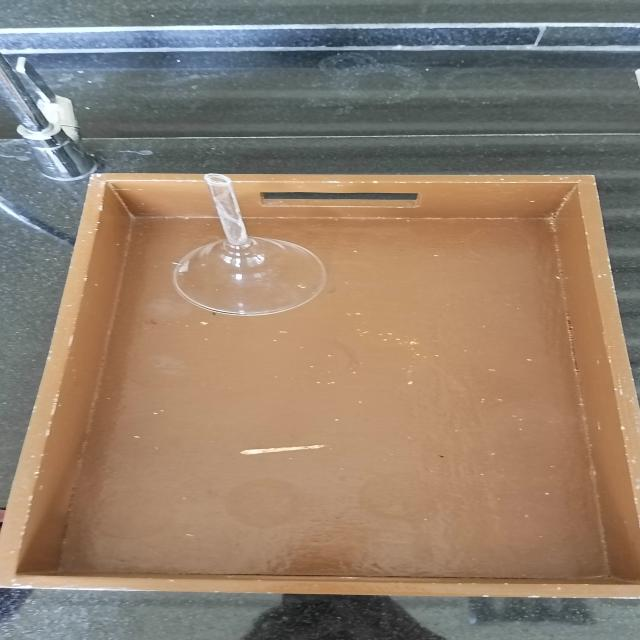funnel: (142, 172, 339, 318)
